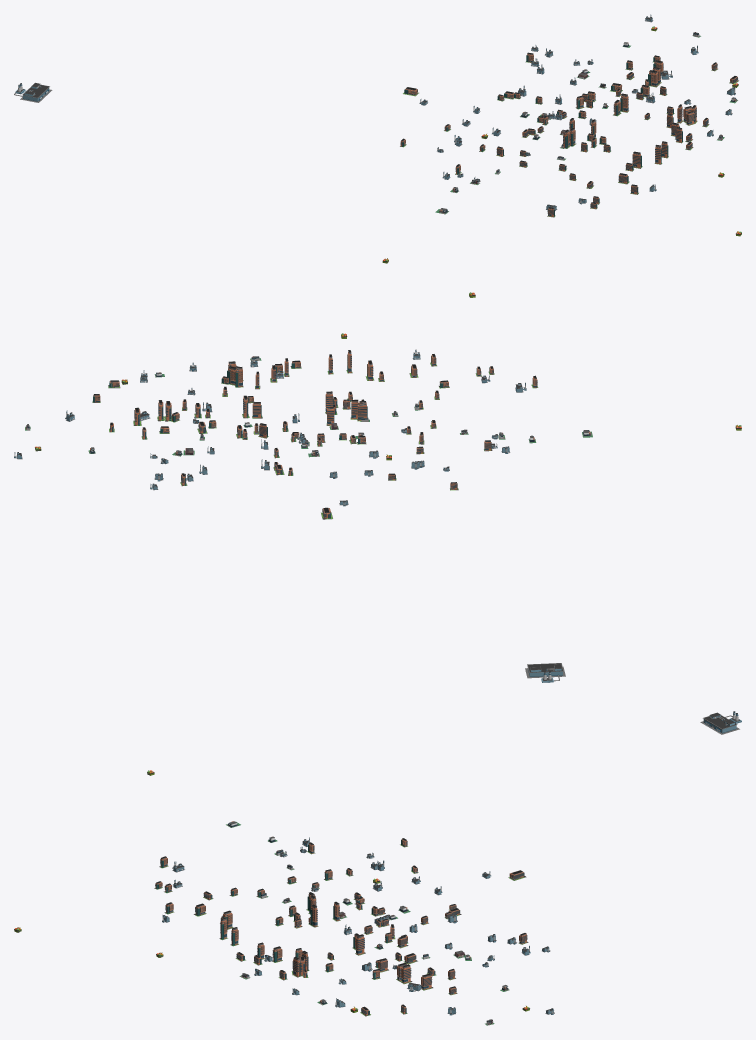
Rendered from rio2.glb.
3 renders of one model, top to bottom at view 1: azimuth 30°, elevation 25°; view 2: azimuth 150°, elevation 25°; view 3: azimuth 270°, elevation 25°, orthographic. The views are drawn at different scales.
Visible parts, largest first — view 1: rio; view 2: rio; view 3: rio.
Part boxes in pixels (x1=…): rio: x1=14, y1=14, x2=741, y2=263; rio: x1=14, y1=292, x2=741, y2=682; rio: x1=14, y1=711, x2=741, y2=1025.
Bounding box in the file's own units: 2021 × 61.06 × 2011.
Materials: 8 (8 with a texture image).
